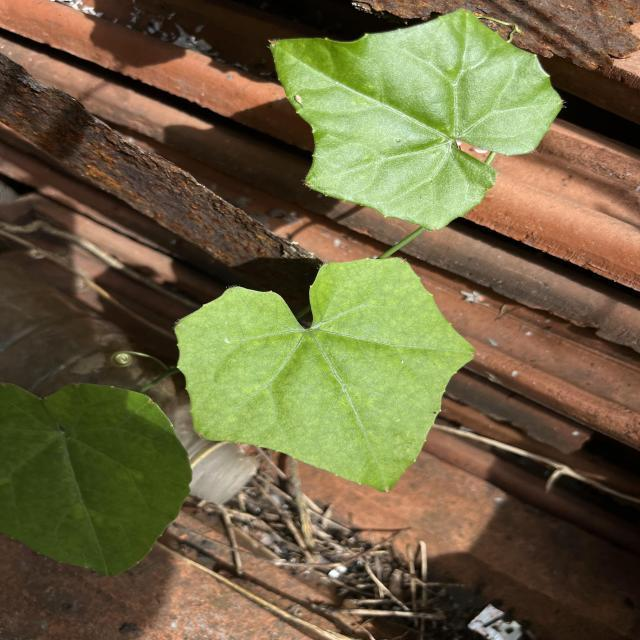Coccinia grandis: (172, 255, 478, 494), (266, 8, 566, 234)
